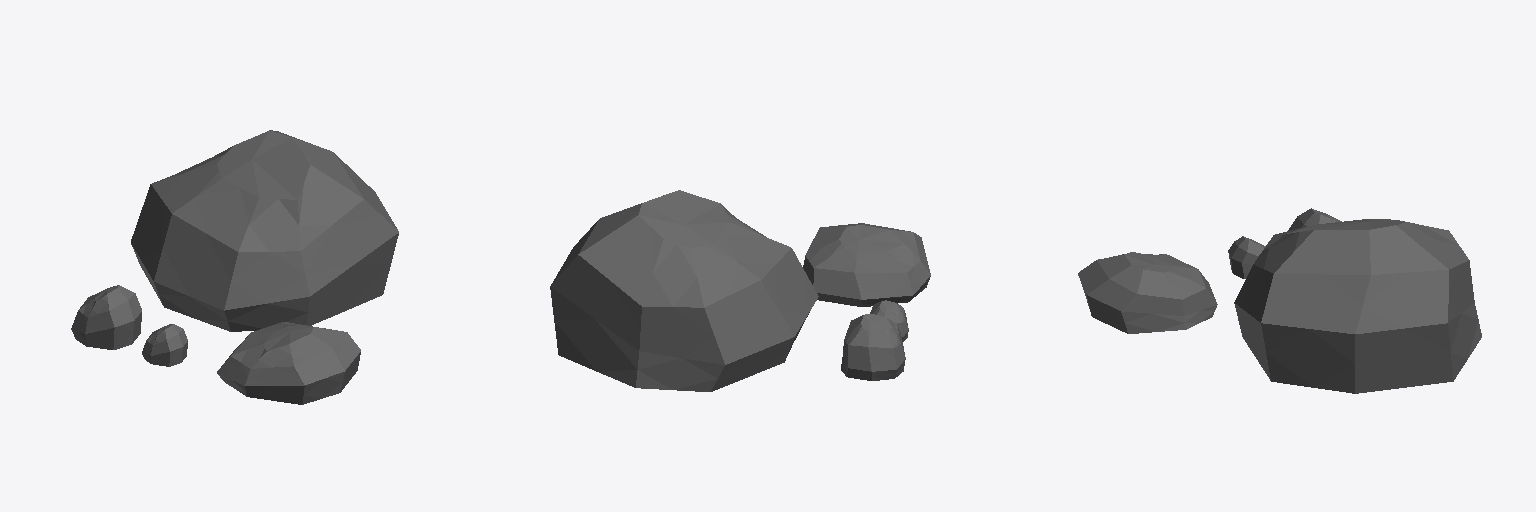
File: Rocks_Variation.obj
The picture shows the model from 3 angles: view 1: azimuth 30°, elevation 25°; view 2: azimuth 150°, elevation 25°; view 3: azimuth 270°, elevation 25°; orthographic projection.
Visible parts, largest first — view 1: LP_BIG_ROCK, LP_MED_ROCK, LP_SMALL_ROCK, LP_SMALL_ROCK_02; view 2: LP_BIG_ROCK, LP_MED_ROCK, LP_SMALL_ROCK, LP_SMALL_ROCK_02; view 3: LP_BIG_ROCK, LP_MED_ROCK, LP_SMALL_ROCK_02, LP_SMALL_ROCK.
Boxes of the visible parts, box(x1,y1,x2,y2) form: LP_BIG_ROCK: box(131, 130, 398, 331); LP_MED_ROCK: box(217, 322, 360, 404); LP_SMALL_ROCK: box(71, 285, 141, 349); LP_SMALL_ROCK_02: box(142, 324, 187, 366); LP_BIG_ROCK: box(550, 190, 818, 391); LP_MED_ROCK: box(803, 223, 930, 306); LP_SMALL_ROCK: box(841, 314, 905, 380); LP_SMALL_ROCK_02: box(870, 300, 908, 341); LP_BIG_ROCK: box(1234, 219, 1481, 393); LP_MED_ROCK: box(1078, 252, 1217, 333); LP_SMALL_ROCK_02: box(1228, 236, 1265, 278); LP_SMALL_ROCK: box(1288, 208, 1341, 230).
Size of the model in its own units: 3.67 by 1.47 by 4.1.